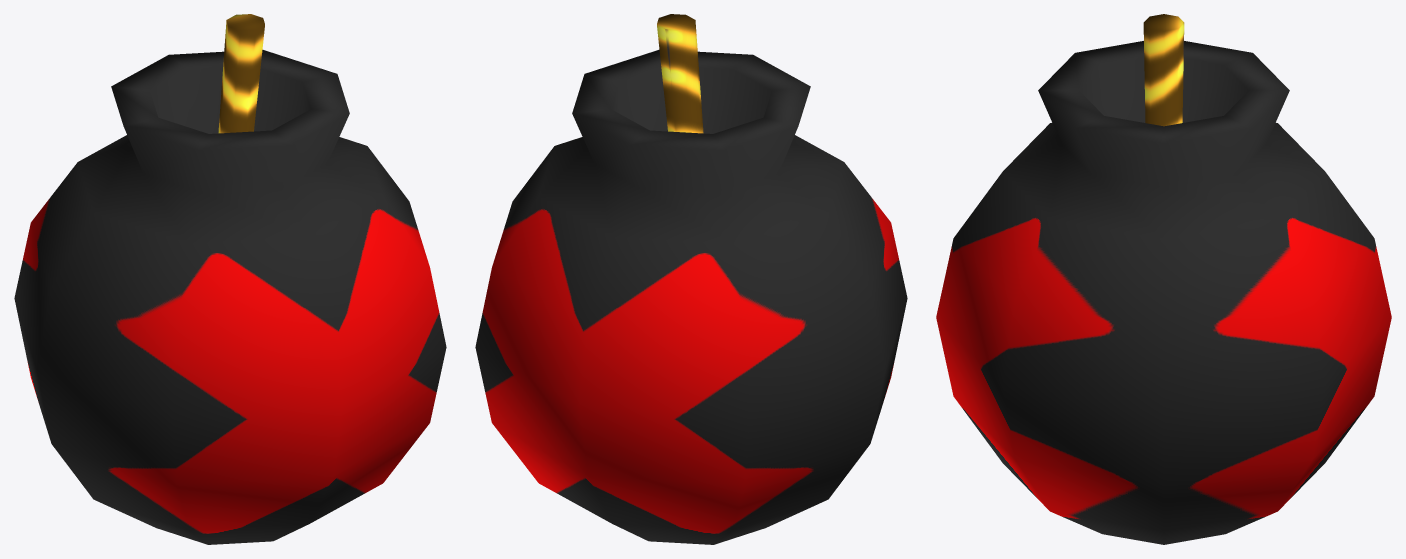
File: bomb.fbx
3 views of the same model, side by side, from view 1: azimuth 30°, elevation 25°; view 2: azimuth 150°, elevation 25°; view 3: azimuth 270°, elevation 25° (orthographic).
Visible parts, largest first — view 1: Sphere; view 2: Sphere; view 3: Sphere.
Part boxes in pixels (left/top/right/bottom): Sphere: left=14, top=14, right=446, bottom=544; Sphere: left=475, top=14, right=907, bottom=544; Sphere: left=936, top=14, right=1391, bottom=544.
Size of the model in its own units: 2 by 2.46 by 2.
